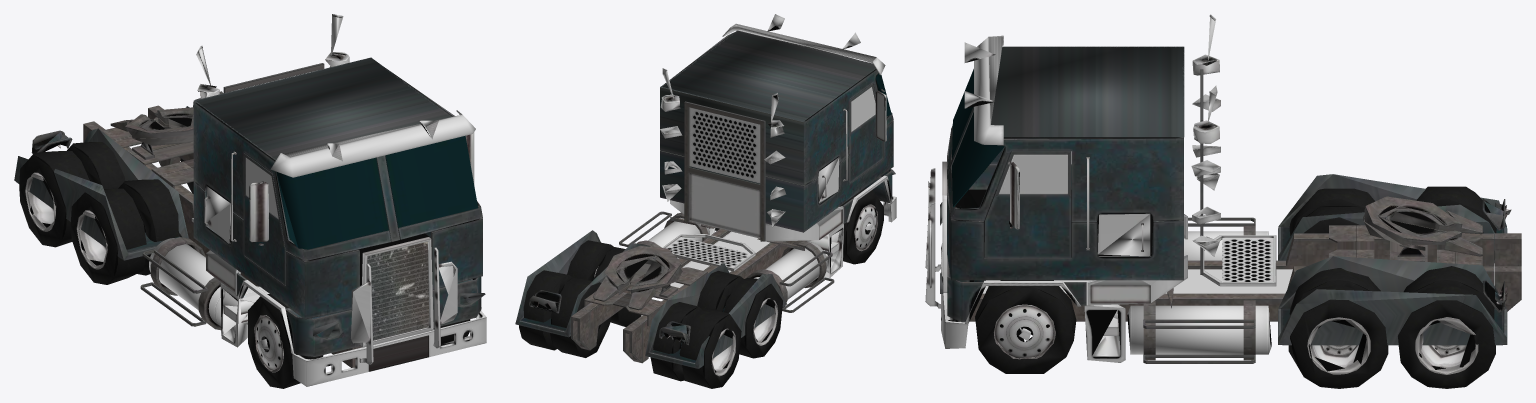
The model's file is semi-cab.lod0.glb.
3 views of the same model, side by side, from view 1: azimuth 30°, elevation 25°; view 2: azimuth 150°, elevation 25°; view 3: azimuth 270°, elevation 25° (orthographic). The views are drawn at different scales.
Parts seen in each view (by area): view 1: truck_main_body_truck_main_body_baked_0, chrome_pieces_truck_chrome_pieces_baked_0, rear_wheel_set_1_R_truck_wheels_baked_0; view 2: truck_main_body_truck_main_body_baked_0, chrome_pieces_truck_chrome_pieces_baked_0, rear_wheel_set_1_R_truck_wheels_baked_0; view 3: truck_main_body_truck_main_body_baked_0, chrome_pieces_truck_chrome_pieces_baked_0, rear_wheel_set_1_R_truck_wheels_baked_0.
Part boxes in pixels (x1=…): truck_main_body_truck_main_body_baked_0: x1=14, y1=57, x2=485, y2=367; chrome_pieces_truck_chrome_pieces_baked_0: x1=149, y1=14, x2=486, y2=386; rear_wheel_set_1_R_truck_wheels_baked_0: x1=19, y1=142, x2=470, y2=388; truck_main_body_truck_main_body_baked_0: x1=515, y1=30, x2=895, y2=368; chrome_pieces_truck_chrome_pieces_baked_0: x1=648, y1=14, x2=896, y2=299; rear_wheel_set_1_R_truck_wheels_baked_0: x1=519, y1=188, x2=883, y2=388; truck_main_body_truck_main_body_baked_0: x1=940, y1=46, x2=1521, y2=363; chrome_pieces_truck_chrome_pieces_baked_0: x1=925, y1=14, x2=1292, y2=362; rear_wheel_set_1_R_truck_wheels_baked_0: x1=975, y1=186, x2=1496, y2=388.
Bounding box in the file's own units: 3.51 × 3.89 × 7.39.
3 materials, 3 textured.
